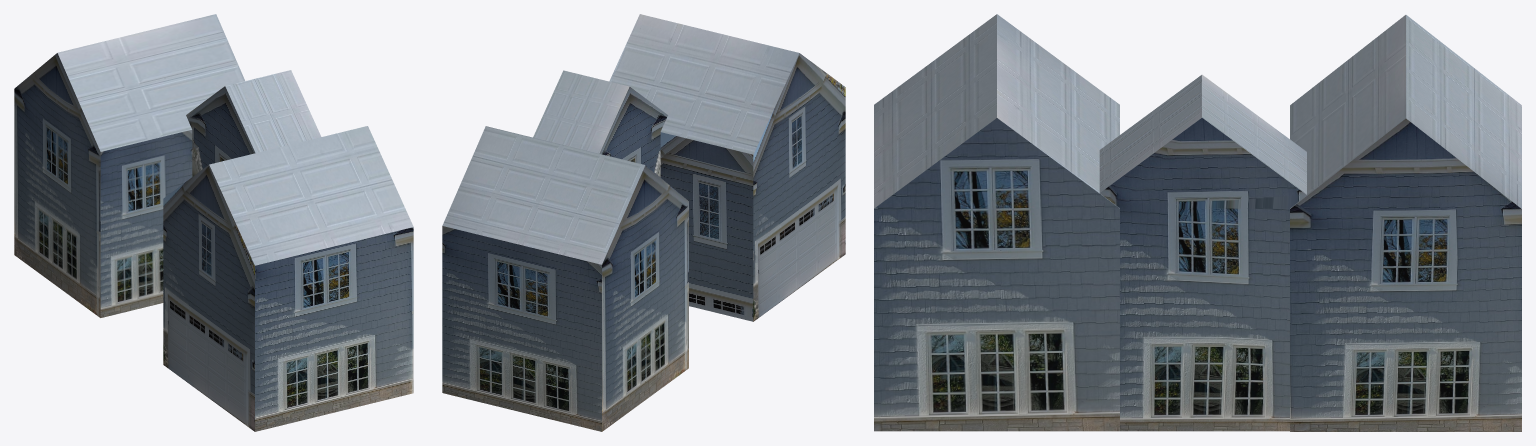
The model's file is Residential1.fbx.
The picture shows the model from 3 angles, left to right: view 1: azimuth 30°, elevation 25°; view 2: azimuth 150°, elevation 25°; view 3: azimuth 270°, elevation 25°; orthographic projection. The views are drawn at different scales.
Visible parts, largest first — view 1: Cube; view 2: Cube; view 3: Cube.
Part boxes in pixels (x1,y1,x2,y2): Cube: [14, 14, 413, 431]; Cube: [442, 14, 845, 431]; Cube: [874, 14, 1521, 431].
Size of the model in its own units: 527 by 201 by 281.
1 material, 1 textured.
